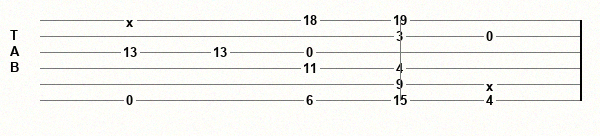0: (126, 93, 137, 107), (306, 45, 317, 59), (486, 29, 497, 43)
11: (303, 61, 321, 75)
13: (123, 45, 141, 59), (213, 45, 231, 59)
15: (393, 93, 411, 107)
18: (303, 13, 321, 27)
19: (393, 13, 411, 27)
3: (396, 29, 407, 43)
4: (396, 61, 407, 75), (486, 93, 497, 107)
6: (306, 93, 317, 107)
9: (396, 77, 407, 91)
x: (126, 15, 138, 26), (486, 79, 498, 90)
